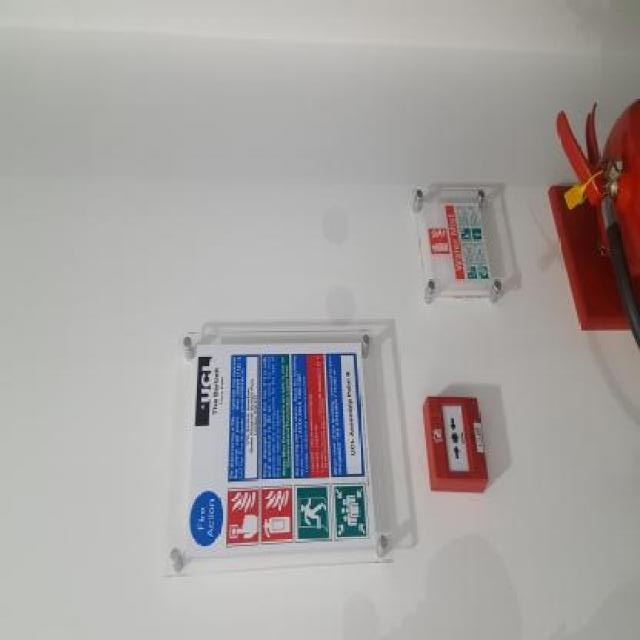fire extinguisher: (557, 99, 640, 346)
